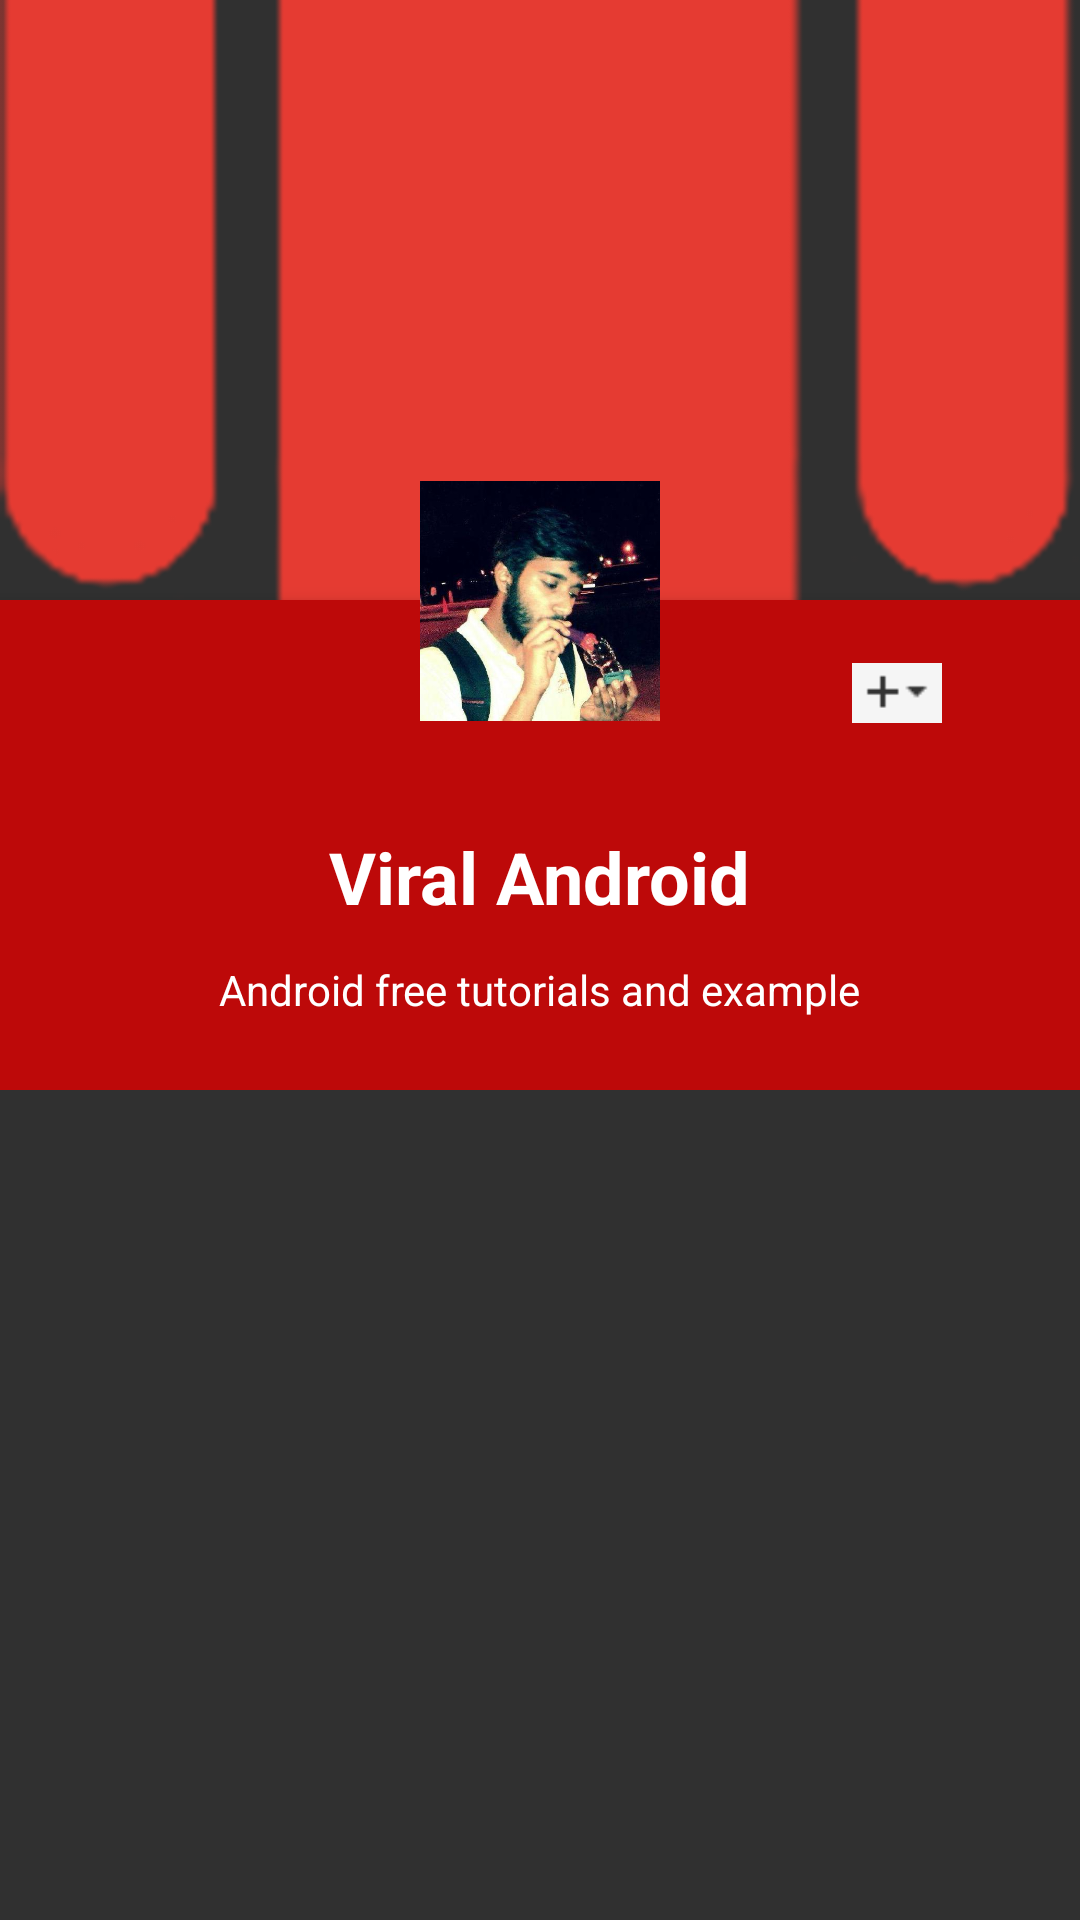

Named icons in this screenshot (1080*1920) and their centers, (x,y):
add: (897,693)
